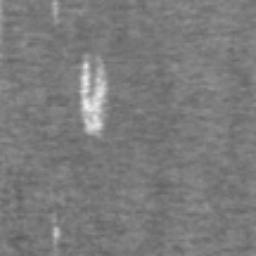White rust: (80, 61, 108, 135), (53, 227, 60, 238)
